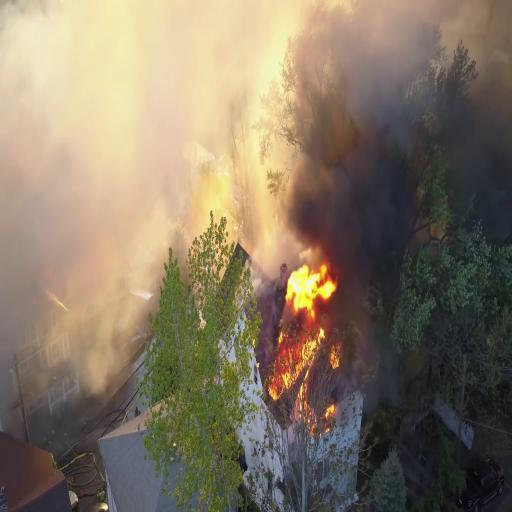fire: (270, 337, 325, 405), (282, 259, 330, 315)
smoke: (297, 58, 413, 254)
